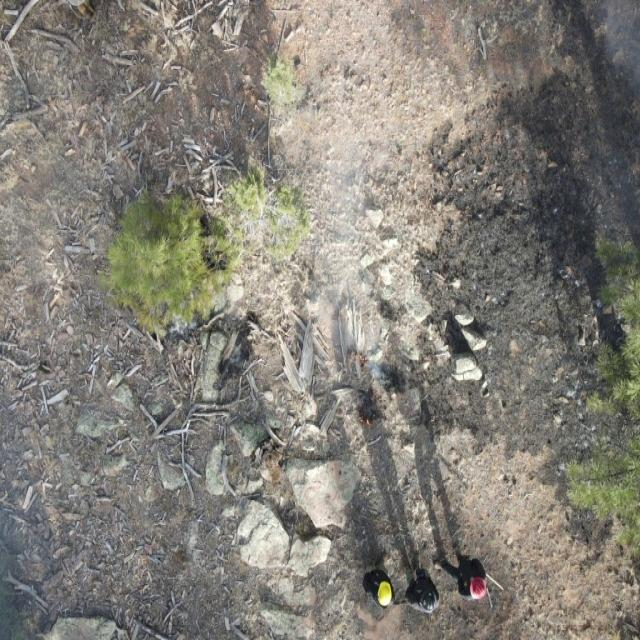fire: (346, 347, 372, 374), (373, 375, 387, 404), (357, 409, 372, 432)
smoke: (290, 137, 412, 429), (534, 0, 640, 102)
